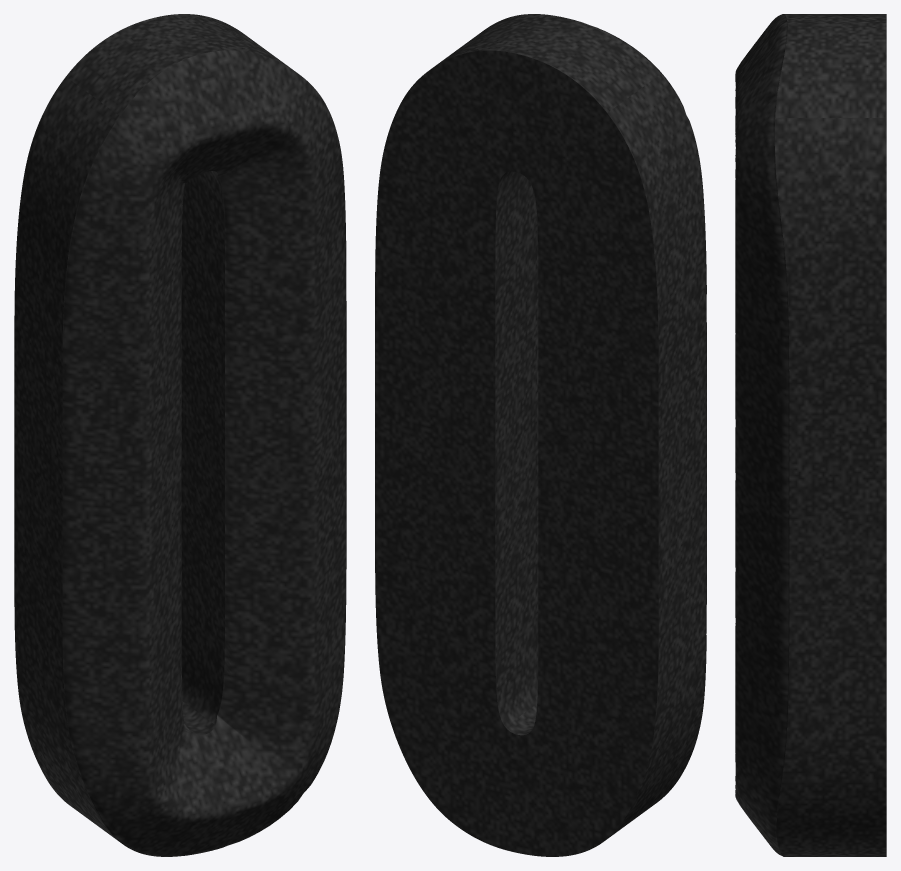
File: digit-0.glb
3 views of the same model, side by side, from view 1: azimuth 30°, elevation 25°; view 2: azimuth 150°, elevation 25°; view 3: azimuth 270°, elevation 25° (orthographic).
Parts seen in each view (by area): view 1: Glyph 0; view 2: Glyph 0; view 3: Glyph 0.
Boxes of the visible parts, left/top/right/bottom form: Glyph 0: left=14, top=14, right=346, bottom=856; Glyph 0: left=375, top=14, right=706, bottom=856; Glyph 0: left=735, top=14, right=886, bottom=856.
Size of the model in its own units: 1.38 by 3.71 by 0.628.
Materials: 1 (1 with a texture image).
